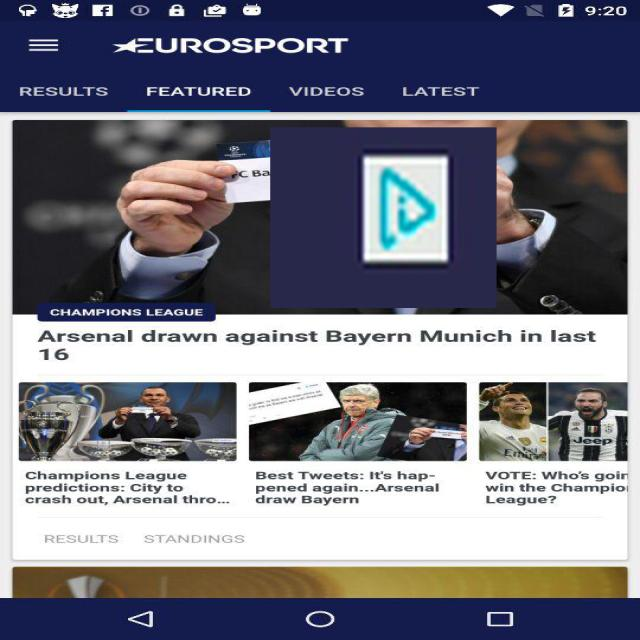sneaking: (270, 127, 497, 308)
